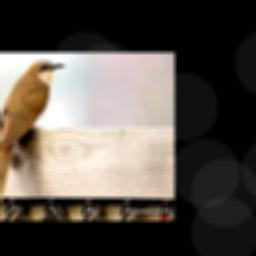Cuckoo: (0, 60, 66, 217)
